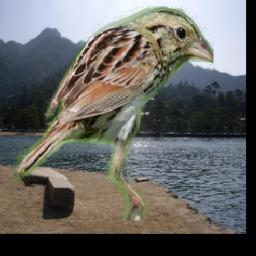Sparrow: (14, 6, 214, 221)
